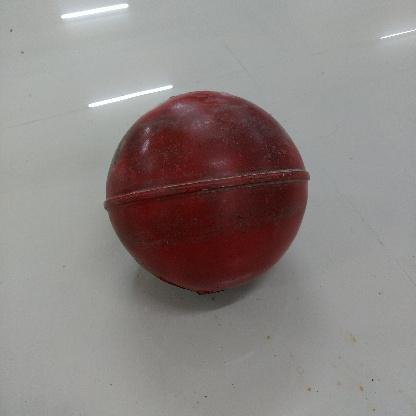red_buoy: (102, 89, 314, 318)
